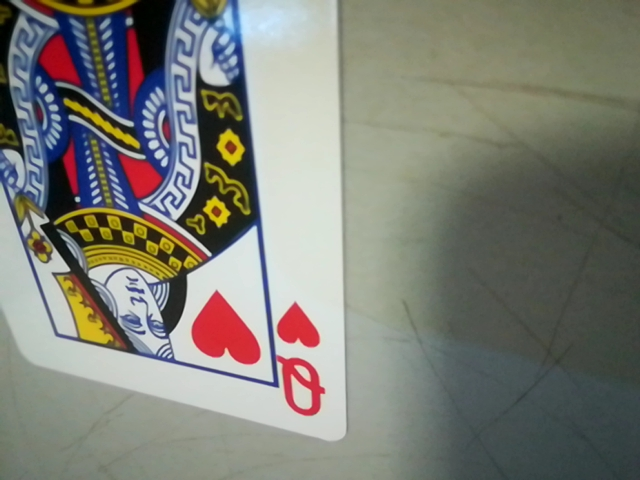hx q: (269, 294, 341, 427)
